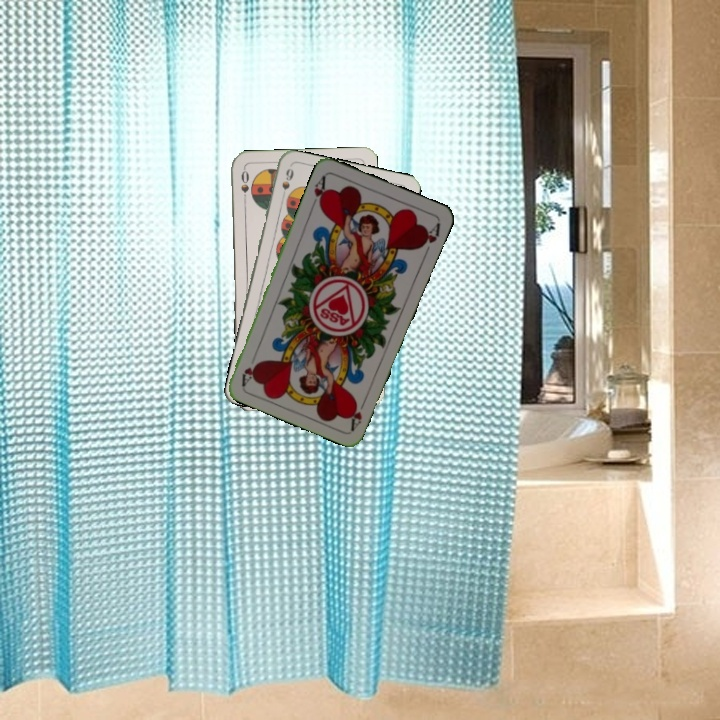HA: (345, 393, 369, 432), (307, 171, 330, 211)
S9: (277, 165, 296, 204)
SO: (237, 165, 252, 206)
